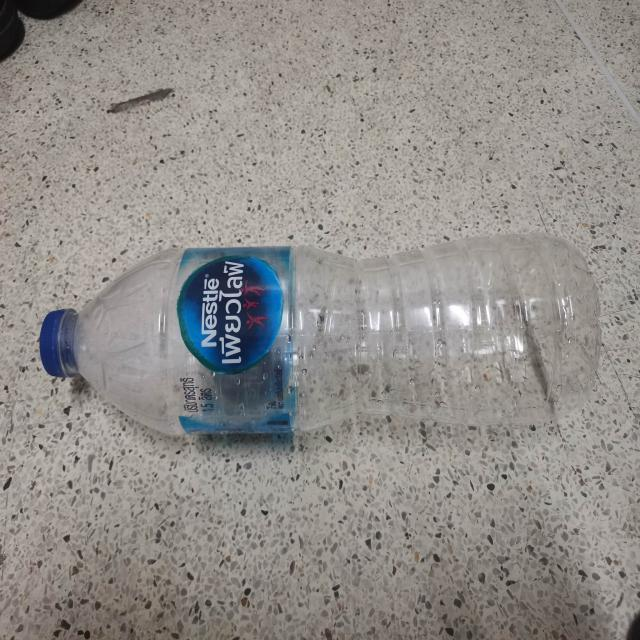plastic_bottle: (39, 234, 600, 436)
